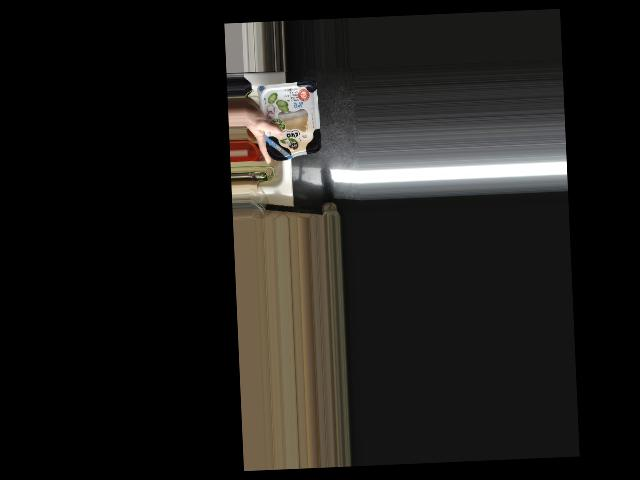cheese: (258, 83, 321, 161)
